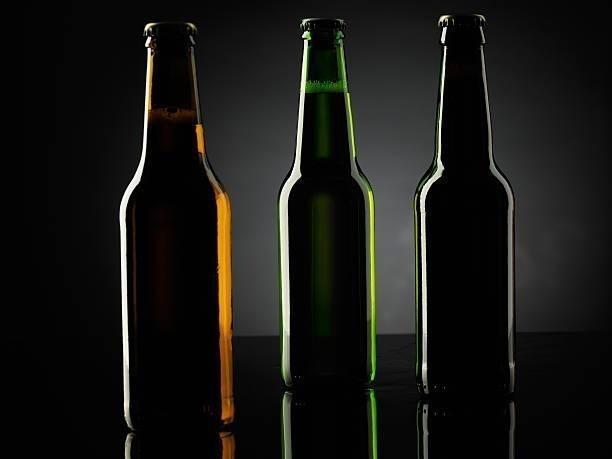bottle-glass: (115, 16, 238, 439), (410, 9, 519, 407), (274, 13, 378, 393)
